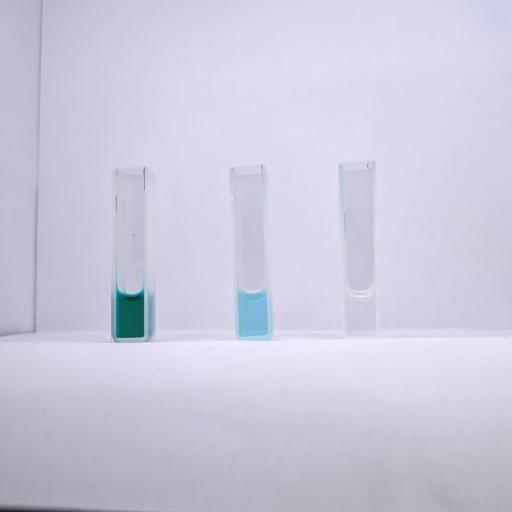cuvette: (336, 158, 383, 340), (228, 162, 275, 339), (108, 164, 151, 344)
liquid: (345, 288, 375, 336), (116, 289, 145, 337), (238, 288, 266, 335)
